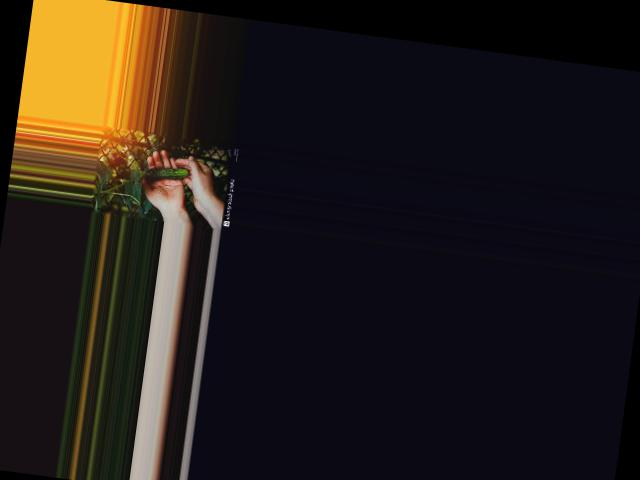cucumber: (144, 163, 189, 184)
